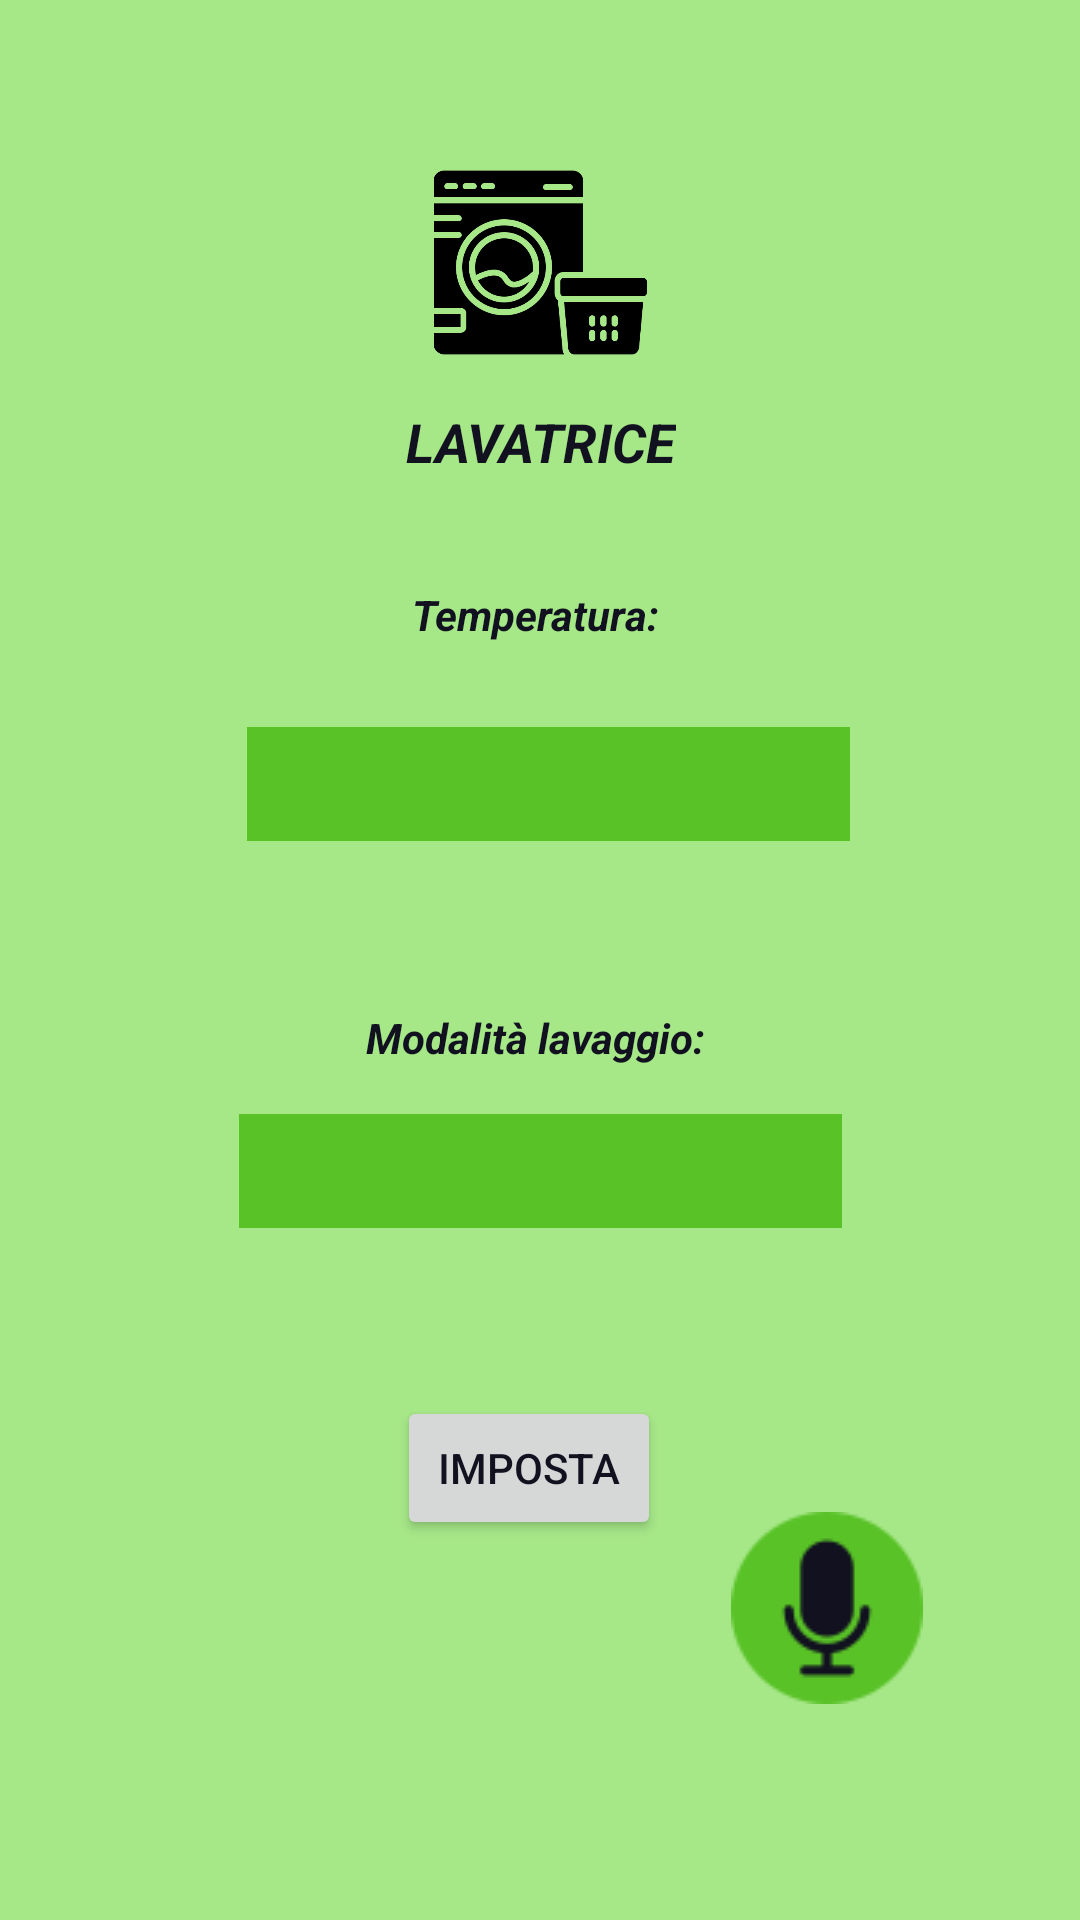

Named icons in this screenshot (1080×1920) and their bounding boxes, (x1, y1, x2, y2):
microphone: (731, 1512, 923, 1704)
